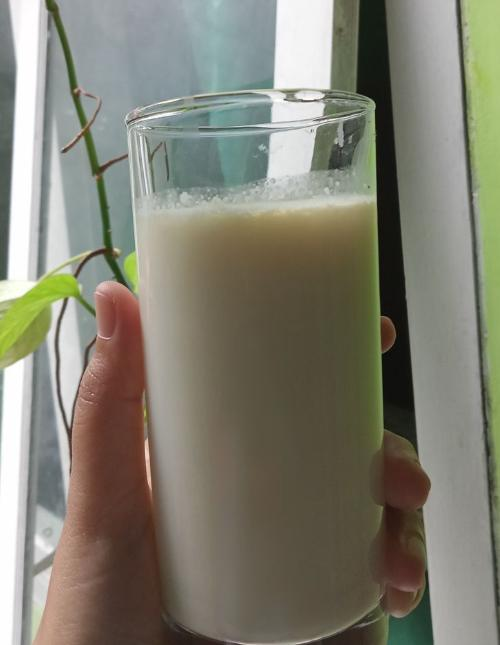produk_susu: (127, 115, 380, 626)
